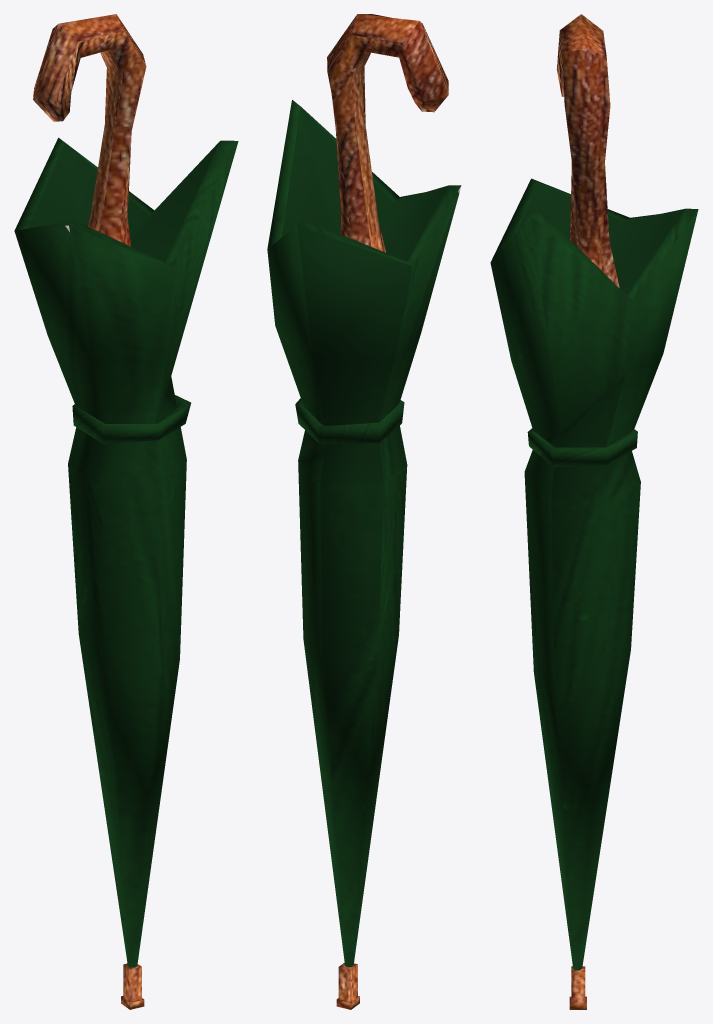
Rendered from umbrella.fbx.
3 renders of one model, left to right at view 1: azimuth 30°, elevation 25°; view 2: azimuth 150°, elevation 25°; view 3: azimuth 270°, elevation 25°, orthographic. The views are drawn at different scales.
Visible parts, largest first — view 1: Cylinder; view 2: Cylinder; view 3: Cylinder.
Boxes of the visible parts, x1,y1,x2,y2 form: Cylinder: (14,14,238,1009); Cylinder: (267,14,461,1009); Cylinder: (490,14,698,1009).
Size of the model in its own units: 52.75 by 278 by 54.75.
Materials: 1 (1 with a texture image).
